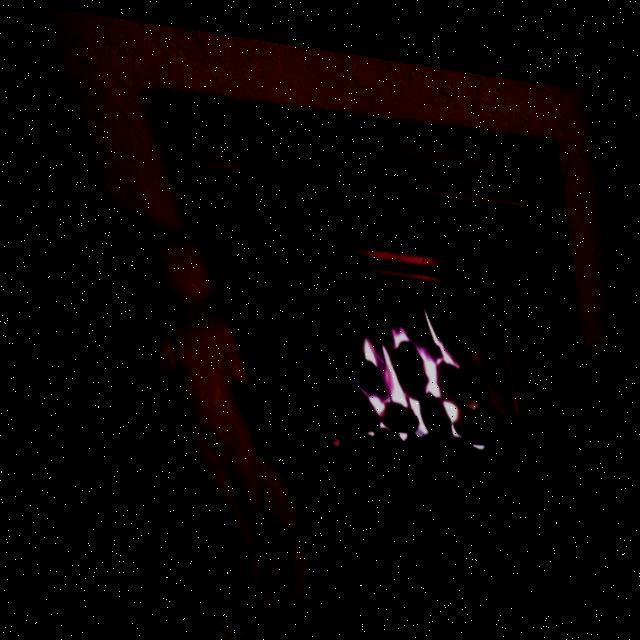Fire: (319, 280, 496, 467)
